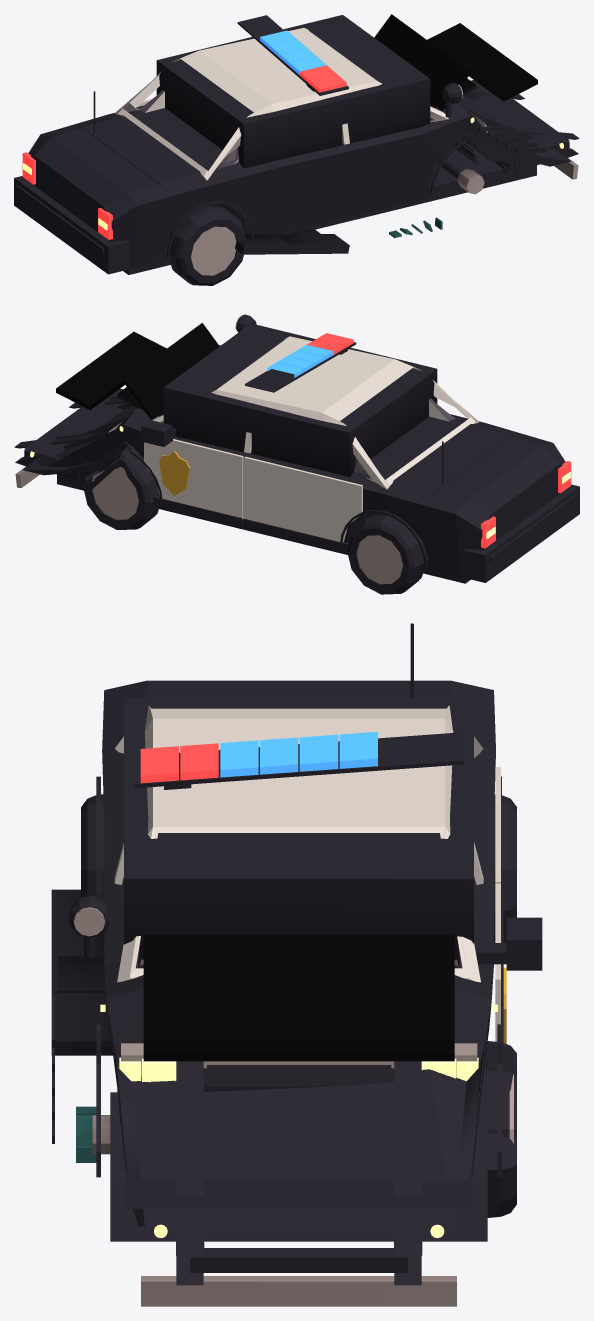
Rendered from veh.police-sedan.wrecked.glb.
The picture shows the model from 3 angles, top to bottom: view 1: azimuth 30°, elevation 25°; view 2: azimuth 150°, elevation 25°; view 3: azimuth 270°, elevation 25°; orthographic projection. The views are drawn at different scales.
Parts seen in each view (by area): view 1: body, object 11, wheelRL, sirenR, sirenL, lightsBrake, wheelFL; view 2: body, object 11, doorR, wheelRR, wheelFR, sirenR, lightsBrake, sirenL; view 3: body, object 11, sirenR, wheelFR, doorR, sirenL, lightsFront, wheelRR, wheelRL.
Part boxes in pixels (<box>): body: <box>14,15,579,274</box>; object 11: <box>156,14,578,254</box>; wheelRL: <box>167,206,246,285</box>; sirenR: <box>260,30,326,75</box>; sirenL: <box>300,65,346,92</box>; lightsBrake: <box>22,152,112,239</box>; wheelFL: <box>457,168,484,194</box>; body: <box>14,314,579,583</box>; object 11: <box>15,323,437,487</box>; doorR: <box>141,420,243,524</box>; wheelRR: <box>347,514,426,594</box>; wheelFR: <box>83,445,159,529</box>; sirenR: <box>267,344,333,377</box>; lightsBrake: <box>481,461,571,548</box>; sirenL: <box>307,333,353,354</box>; body: <box>68,623,503,1285</box>; object 11: <box>51,697,473,1306</box>; sirenR: <box>220,731,377,777</box>; wheelFR: <box>481,1041,516,1217</box>; doorR: <box>475,883,542,1043</box>; sirenL: <box>140,743,218,783</box>; lightsFront: <box>100,1004,497,1238</box>; wheelRR: <box>494,794,516,942</box>; wheelRL: <box>81,794,104,901</box>.
Size of the model in its own units: 5.4 by 1.78 by 2.34.
